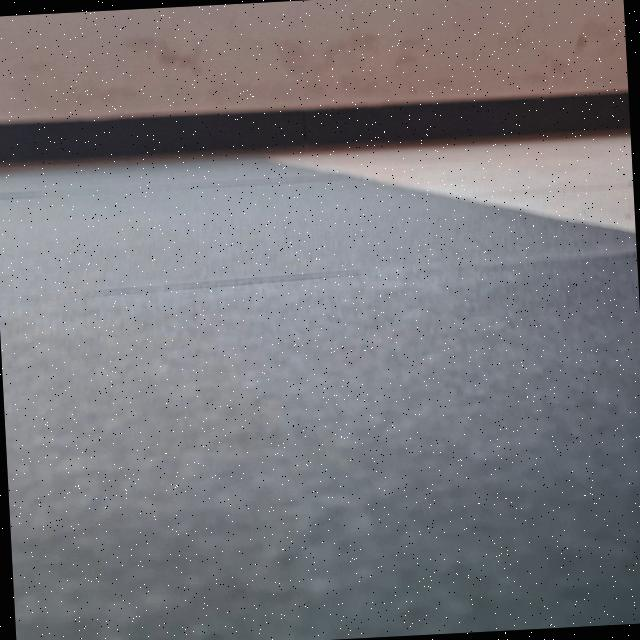Speed40: (0, 84, 20, 133)
